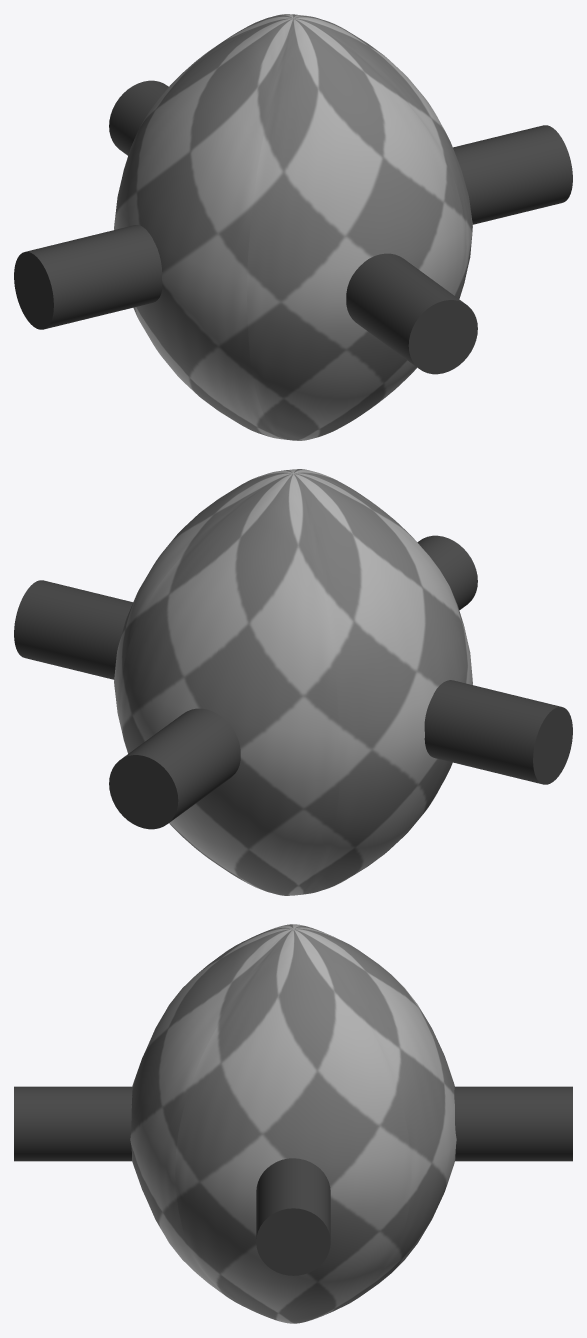
3 renders of one model, top to bottom at view 1: azimuth 30°, elevation 25°; view 2: azimuth 150°, elevation 25°; view 3: azimuth 270°, elevation 25°, orthographic. The views are drawn at different scales.
Visible parts, largest first — view 1: Body(Convex)+Colour(7000000_5000000)+Pattern(Diamond)+S_fd56, Arm002, Arm004, Arm001, Arm003; view 2: Body(Convex)+Colour(7000000_5000000)+Pattern(Diamond)+S_fd56, Arm002, Arm003, Arm001, Arm004; view 3: Body(Convex)+Colour(7000000_5000000)+Pattern(Diamond)+S_fd56, Arm003, Arm004, Arm001.
Boxes of the visible parts, box(x1,y1,x2,y2) form: Body(Convex)+Colour(7000000_5000000)+Pattern(Diamond)+S_fd56: box(114, 14, 472, 440); Arm002: box(14, 225, 162, 329); Arm004: box(346, 253, 477, 374); Arm001: box(453, 125, 572, 224); Arm003: box(109, 80, 168, 155); Body(Convex)+Colour(7000000_5000000)+Pattern(Diamond)+S_fd56: box(114, 469, 472, 895); Arm002: box(424, 680, 572, 784); Arm003: box(109, 708, 240, 829); Arm001: box(14, 580, 132, 679); Arm004: box(417, 535, 477, 610); Body(Convex)+Colour(7000000_5000000)+Pattern(Diamond)+S_fd56: box(130, 924, 456, 1323); Arm003: box(454, 1086, 572, 1161); Arm004: box(14, 1086, 132, 1161); Arm001: box(256, 1158, 330, 1275).
Bounding box in the file's own units: 1.52 × 1.17 × 1.52.
2 materials, 2 textured.
